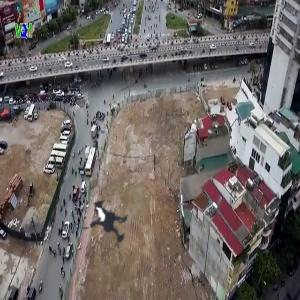drone: (60, 168, 167, 275)
